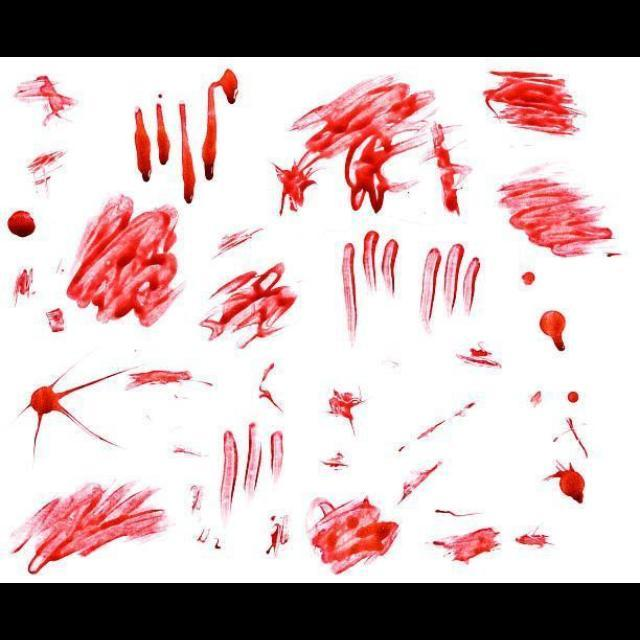blood: (0, 59, 640, 580)
